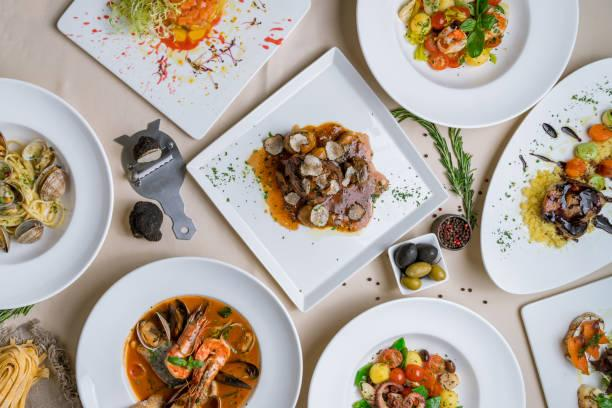Braised Crucian Carp: (54, 261, 305, 408), (483, 71, 612, 291), (360, 0, 573, 129), (0, 68, 117, 302), (47, 0, 320, 98), (307, 296, 529, 403), (387, 233, 449, 294)
